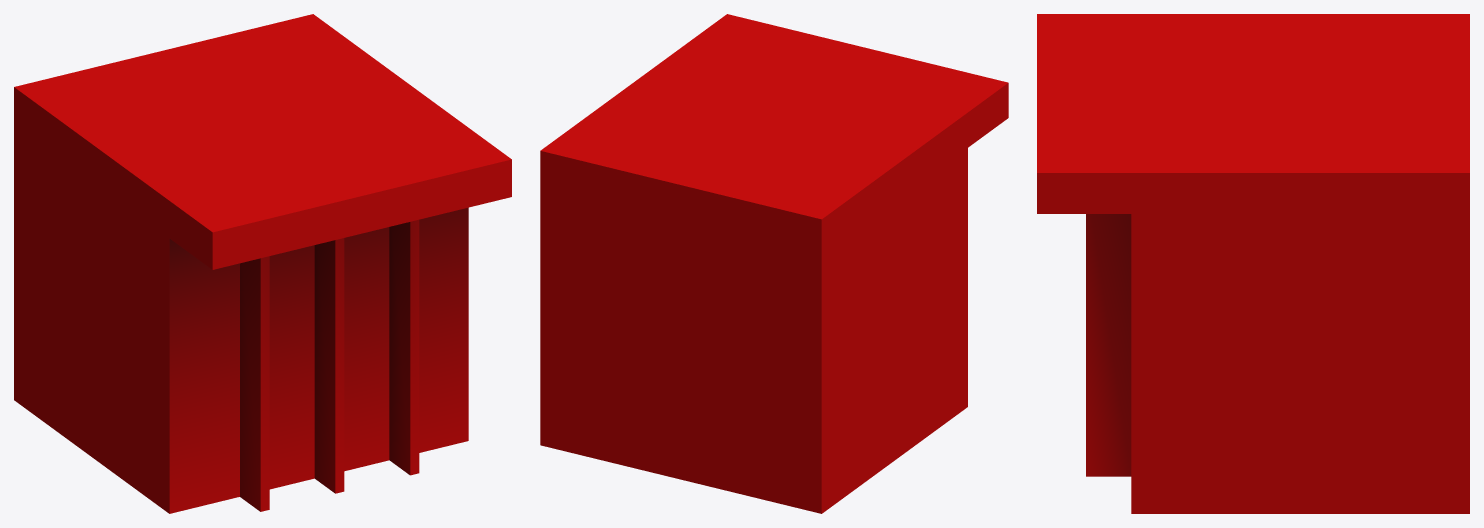
Rendered from rim_segment.glb.
3 renders of one model, left to right at view 1: azimuth 30°, elevation 25°; view 2: azimuth 150°, elevation 25°; view 3: azimuth 270°, elevation 25°, orthographic. The views are drawn at different scales.
Visible parts, largest first — view 1: rim_segment; view 2: rim_segment; view 3: rim_segment.
Boxes of the visible parts, bbox=[...] form: rim_segment: bbox=[14, 14, 511, 513]; rim_segment: bbox=[540, 14, 1008, 513]; rim_segment: bbox=[1037, 14, 1469, 513].
Bounding box in the file's own units: 1 × 1 × 1.15.
